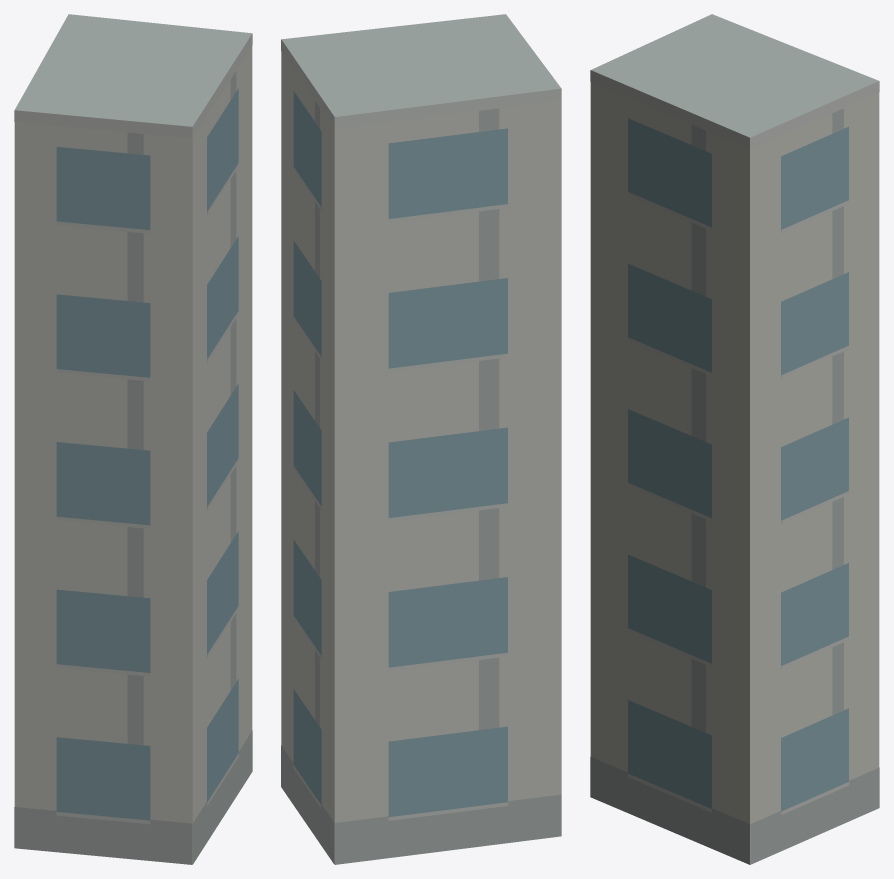
Rendered from survey-upis-32782706.glb.
The picture shows the model from 3 angles, left to right: view 1: azimuth 30°, elevation 25°; view 2: azimuth 150°, elevation 25°; view 3: azimuth 270°, elevation 25°; orthographic projection. The views are drawn at different scales.
Parts seen in each view (by area): view 1: survey-upis-32782706.tmp; view 2: survey-upis-32782706.tmp; view 3: survey-upis-32782706.tmp.
Boxes of the visible parts, x1,y1,x2,y2 form: survey-upis-32782706.tmp: (14, 14, 252, 864); survey-upis-32782706.tmp: (281, 14, 561, 864); survey-upis-32782706.tmp: (590, 14, 879, 864).
Size of the model in its own units: 5.57 by 15.25 by 5.5.
